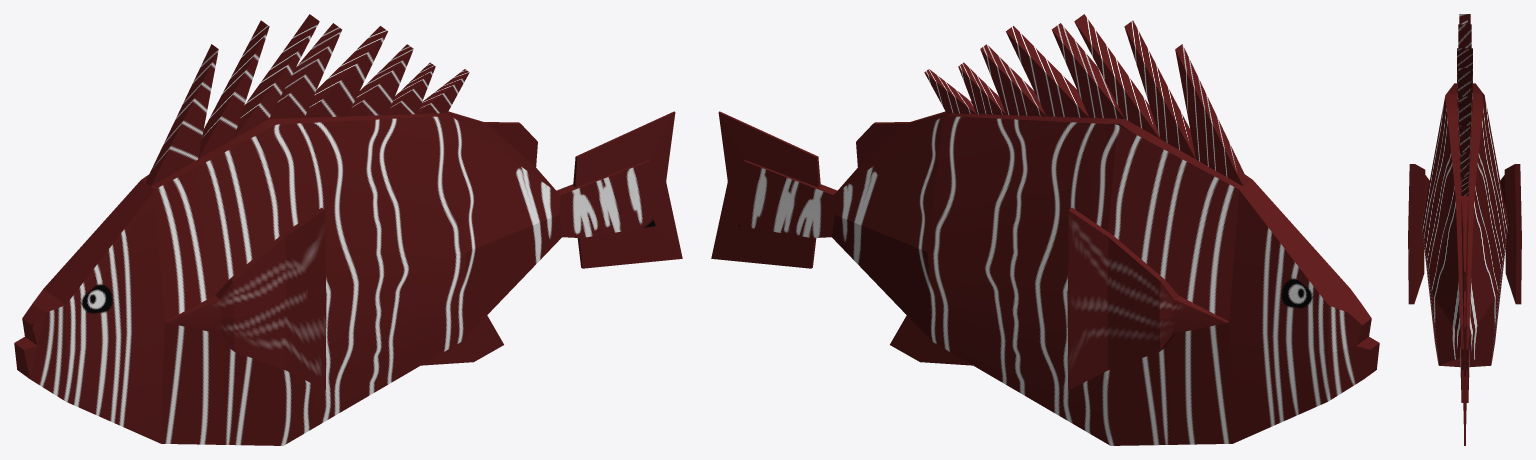
Rendered from Fish06.fbx.
3 views of the same model, side by side, from view 1: azimuth 30°, elevation 25°; view 2: azimuth 150°, elevation 25°; view 3: azimuth 270°, elevation 25° (orthographic). The views are drawn at different scales.
Visible parts, largest first — view 1: Fish06; view 2: Fish06; view 3: Fish06.
Boxes of the visible parts, left/top/right/bottom form: Fish06: left=14, top=14, right=682, bottom=445; Fish06: left=711, top=14, right=1379, bottom=445; Fish06: left=1408, top=14, right=1521, bottom=445.
Size of the model in its own units: 1.49 by 0.8779 by 0.2847.
